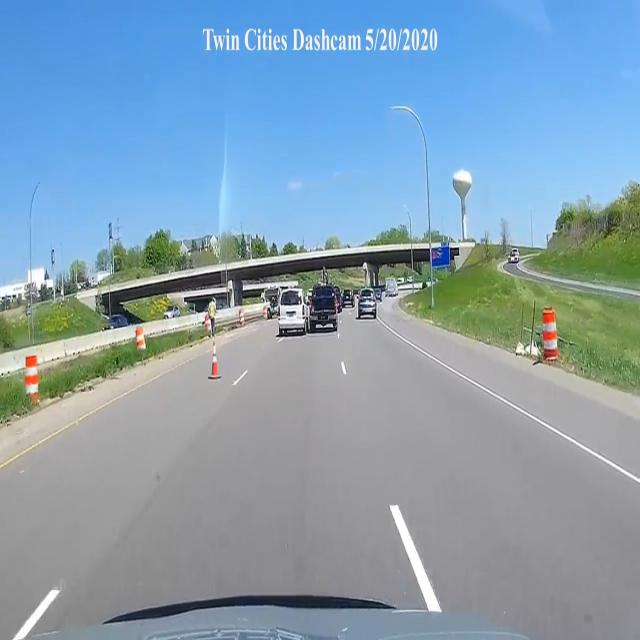Traffic Cone: (209, 335, 226, 383)
